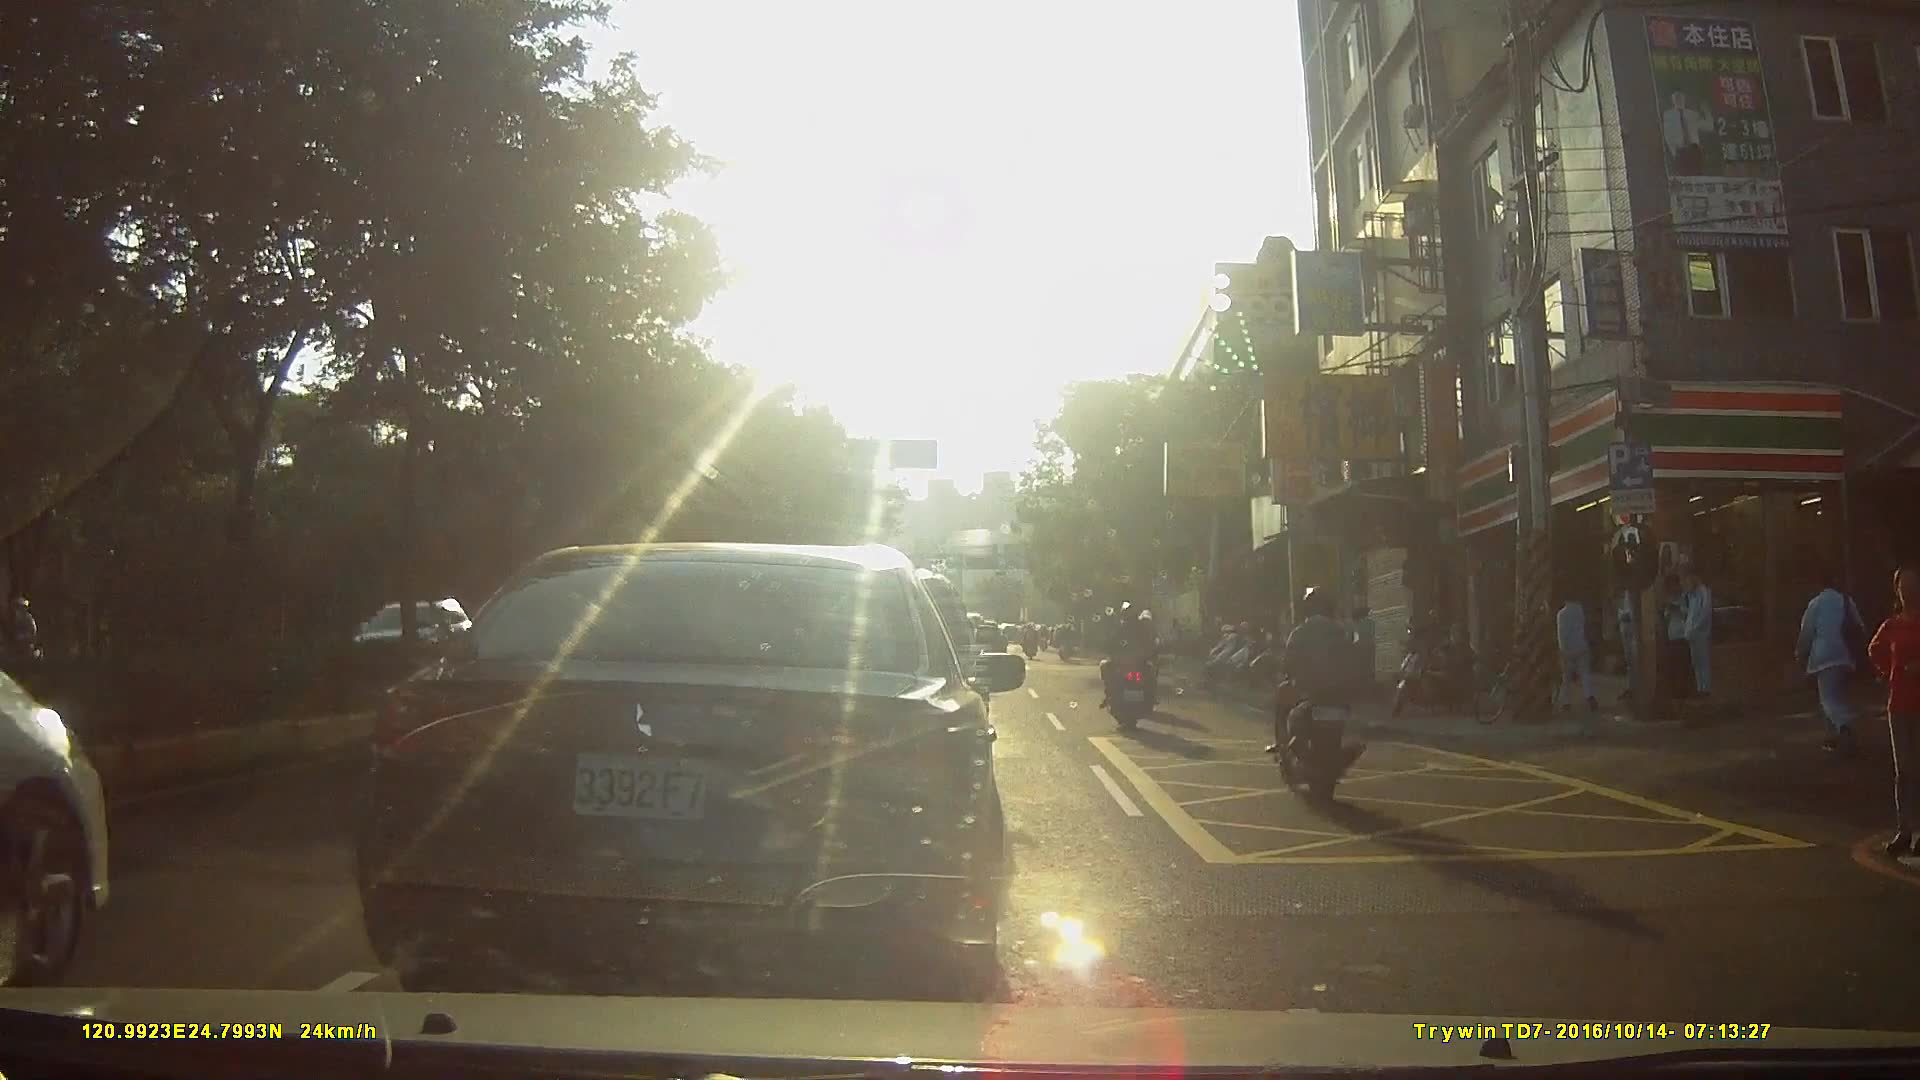pedestrian: (1792, 563, 1876, 760), (1866, 567, 1920, 854), (1548, 579, 1598, 715), (1610, 574, 1655, 708), (1670, 569, 1716, 699), (1660, 567, 1698, 710)
rider: (1267, 586, 1366, 801), (1101, 600, 1161, 730), (1056, 622, 1078, 665), (1021, 622, 1041, 664)
vehicle: (358, 542, 1037, 983), (350, 596, 474, 693)
